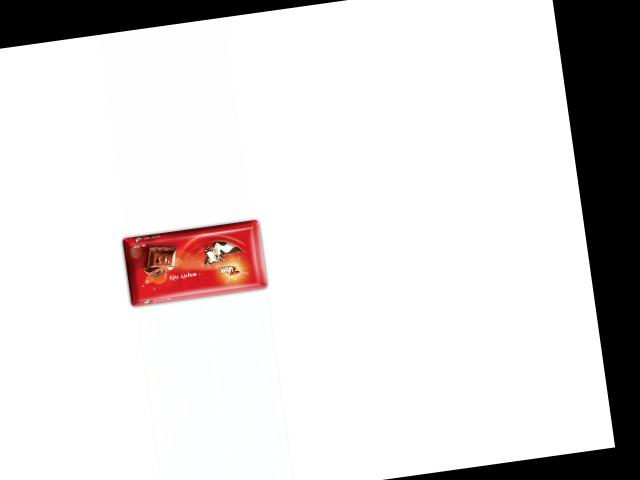chocolate: (119, 213, 275, 307)
